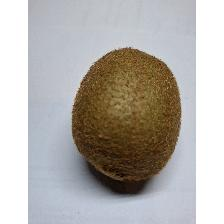Kiwi: (68, 41, 186, 185)
